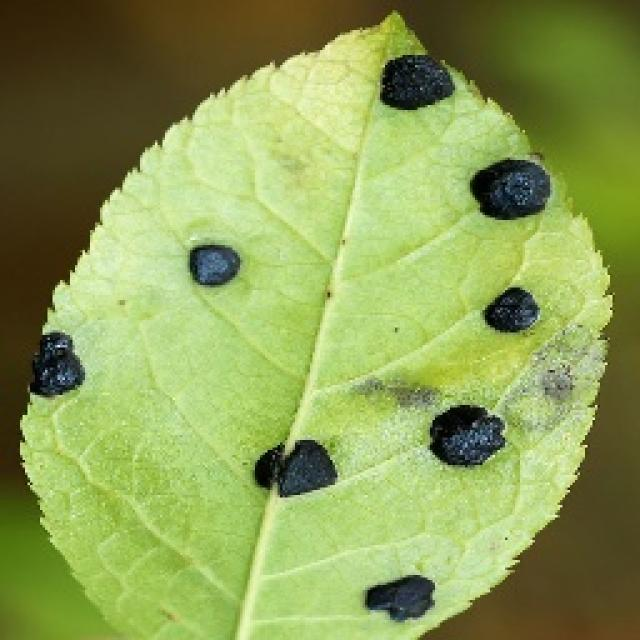Tar_Spot: (47, 5, 535, 640)
